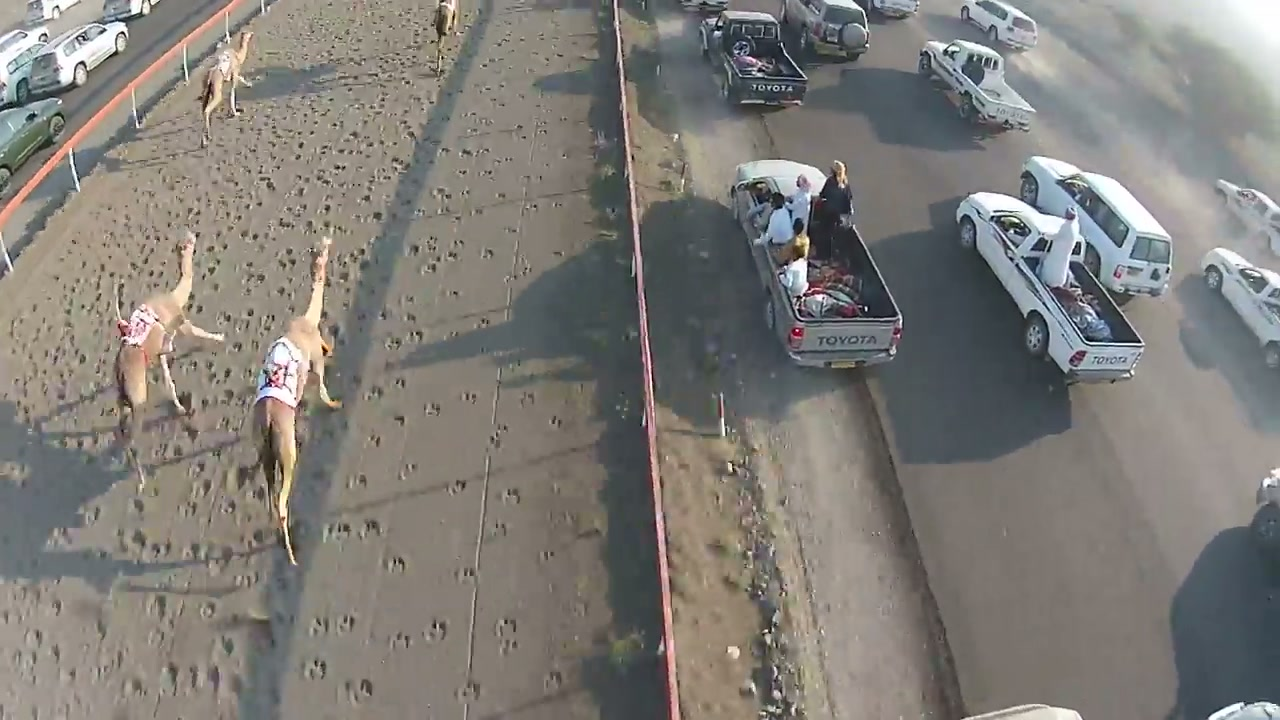animal_footprint: (204, 36, 475, 719), (118, 106, 333, 715)
